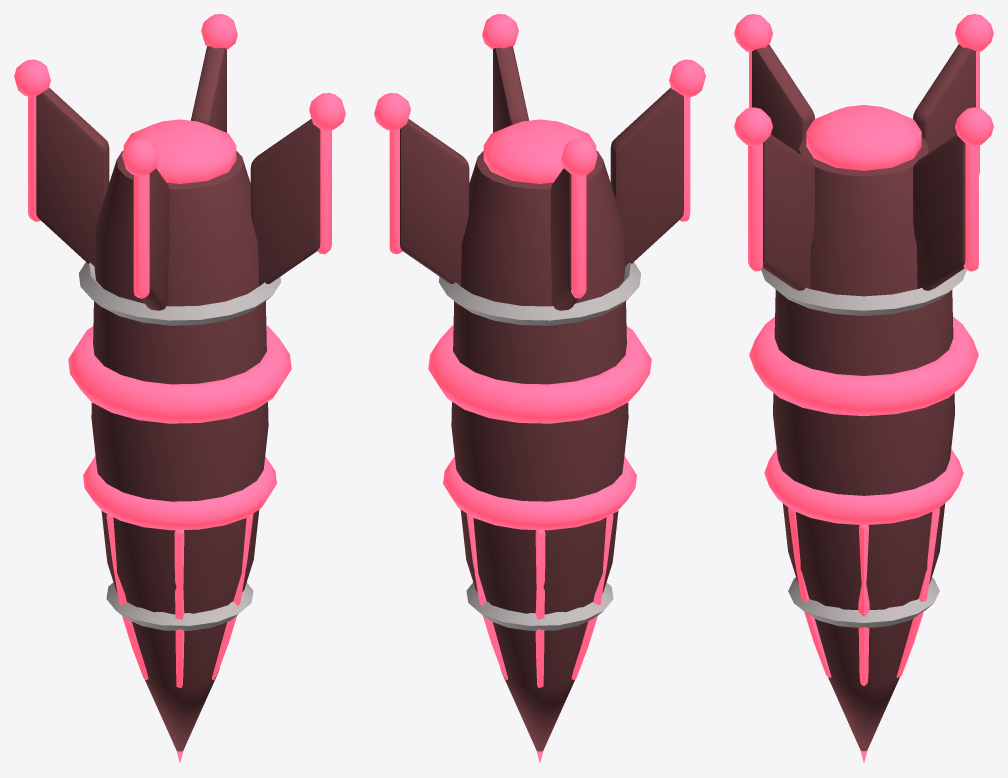
The model's file is bomb_plunger.glb.
The picture shows the model from 3 angles, left to right: view 1: azimuth 30°, elevation 25°; view 2: azimuth 150°, elevation 25°; view 3: azimuth 270°, elevation 25°; orthographic projection. The views are drawn at different scales.
Parts seen in each view (by area): view 1: bomb_plunger; view 2: bomb_plunger; view 3: bomb_plunger.
Boxes of the visible parts, bbox=[...] form: bomb_plunger: bbox=[14, 14, 345, 762]; bomb_plunger: bbox=[374, 14, 705, 762]; bomb_plunger: bbox=[734, 14, 993, 762].
Bounding box in the file's own units: 0.1198 × 0.357 × 0.1198.
